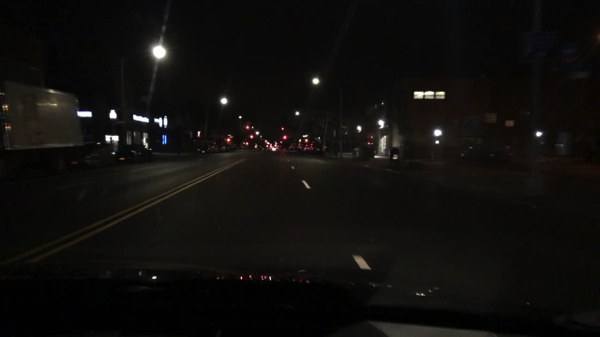car: (69, 140, 116, 173), (458, 146, 514, 166), (113, 143, 154, 166), (307, 140, 327, 157), (195, 141, 219, 154), (216, 142, 226, 153), (294, 142, 303, 154), (225, 143, 234, 153), (302, 144, 310, 153), (269, 145, 278, 151), (229, 144, 236, 150), (289, 143, 295, 150)
person: (333, 137, 340, 158)
traffic light: (281, 135, 286, 142), (303, 138, 308, 145), (245, 125, 249, 132), (249, 133, 253, 140), (280, 125, 284, 132), (226, 137, 230, 143)
traffic sign: (521, 30, 552, 61), (568, 59, 587, 80), (561, 38, 579, 60), (482, 112, 496, 124), (549, 62, 565, 72), (337, 130, 345, 135), (340, 125, 349, 129), (301, 133, 308, 138)
truck: (0, 78, 84, 181)
